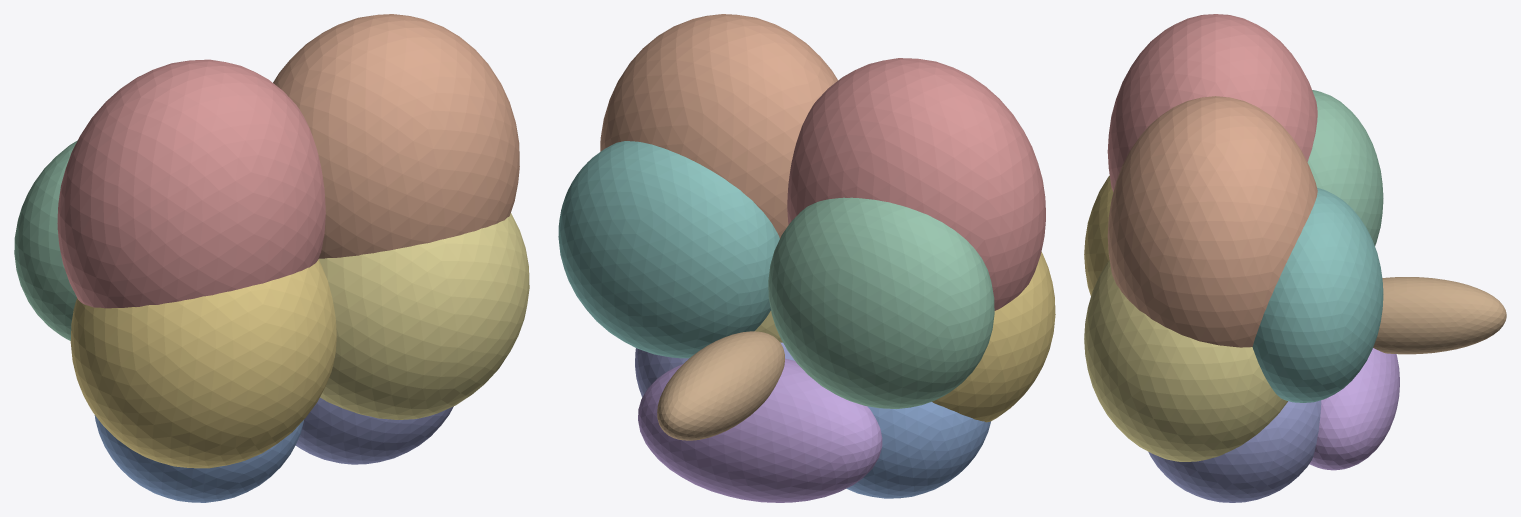
File: brain_educational.glb
3 renders of one model, left to right at view 1: azimuth 30°, elevation 25°; view 2: azimuth 150°, elevation 25°; view 3: azimuth 270°, elevation 25°, orthographic. The views are drawn at different scales.
Visible parts, largest first — view 1: Lobus Frontal Kiri, Lobus Frontal Kanan, Lobus Parietal Kiri, Lobus Parietal Kanan, Lobus Temporal Kiri, Lobus Oksipital Kiri, Lobus Oksipital Kanan; view 2: Lobus Temporal Kiri, Lobus Frontal Kiri, Lobus Temporal Kanan, Lobus Frontal Kanan, Cerebellum, Batang Otak, Lobus Parietal Kiri, Lobus Oksipital Kiri, Lobus Oksipital Kanan; view 3: Lobus Frontal Kanan, Lobus Parietal Kanan, Lobus Temporal Kanan, Lobus Frontal Kiri, Lobus Oksipital Kanan, Batang Otak, Cerebellum, Lobus Temporal Kiri, Lobus Parietal Kiri.
Boxes of the visible parts, <box> form: Lobus Frontal Kiri: <box>57,59,325,308</box>; Lobus Frontal Kanan: <box>273,14,519,258</box>; Lobus Parietal Kiri: <box>70,259,336,468</box>; Lobus Parietal Kanan: <box>318,213,529,419</box>; Lobus Temporal Kiri: <box>14,140,77,340</box>; Lobus Oksipital Kiri: <box>94,415,303,502</box>; Lobus Oksipital Kanan: <box>295,397,453,464</box>; Lobus Temporal Kiri: <box>768,197,994,408</box>; Lobus Frontal Kiri: <box>787,58,1045,310</box>; Lobus Temporal Kanan: <box>558,141,779,358</box>; Lobus Frontal Kanan: <box>600,14,837,238</box>; Cerebellum: <box>638,358,882,502</box>; Batang Otak: <box>657,331,784,440</box>; Lobus Parietal Kiri: <box>932,251,1055,422</box>; Lobus Oksipital Kiri: <box>846,402,990,498</box>; Lobus Oksipital Kanan: <box>635,342,794,397</box>; Lobus Frontal Kanan: <box>1107,96,1317,347</box>; Lobus Parietal Kanan: <box>1084,260,1287,461</box>; Lobus Temporal Kanan: <box>1252,188,1383,402</box>; Lobus Frontal Kiri: <box>1107,14,1317,191</box>; Lobus Oksipital Kanan: <box>1148,400,1321,502</box>; Batang Otak: <box>1373,277,1506,354</box>; Cerebellum: <box>1309,348,1399,470</box>; Lobus Temporal Kiri: <box>1307,90,1383,245</box>; Lobus Parietal Kiri: <box>1084,176,1113,295</box>.
Size of the model in its own units: 3.28 by 3.13 by 3.05.
